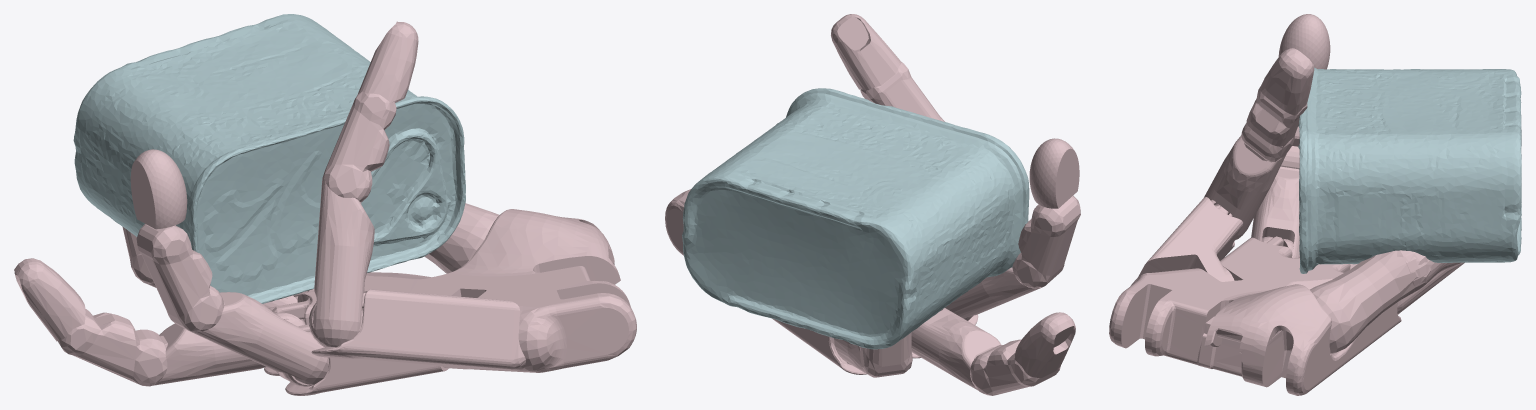
File: grasp_3.glb
3 views of the same model, side by side, from view 1: azimuth 30°, elevation 25°; view 2: azimuth 150°, elevation 25°; view 3: azimuth 270°, elevation 25° (orthographic). The views are drawn at different scales.
Visible parts, largest first — view 1: world; view 2: world; view 3: world.
Boxes of the visible parts, left/top/right/bottom form: world: left=14, top=14, right=636, bottom=395; world: left=665, top=14, right=1080, bottom=395; world: left=1109, top=14, right=1521, bottom=395.
Size of the model in its own units: 0.1942 by 0.1227 by 0.154.
